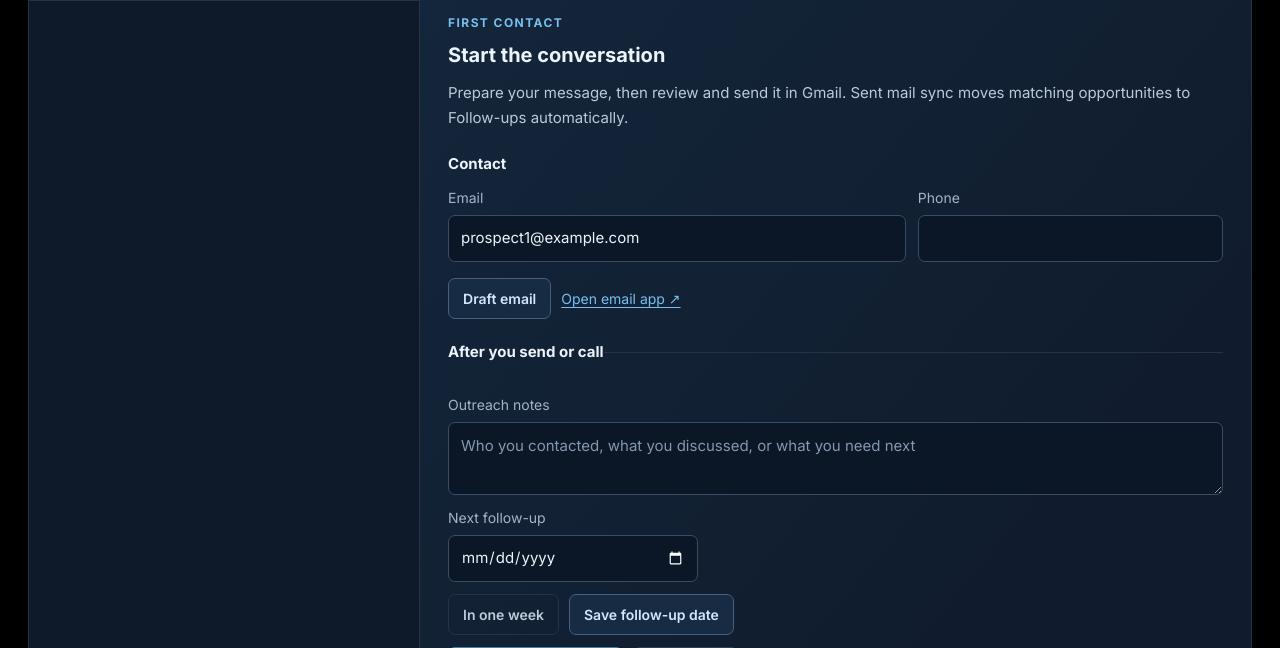
Test case: admin lead email drafting › explains non-JSON platform timeouts and restores the draft action
This screenshot has width=1280, height=648.
(page scrolled)
Click the button "Draft email". click: (500, 299)
box: [448,278,551,319]
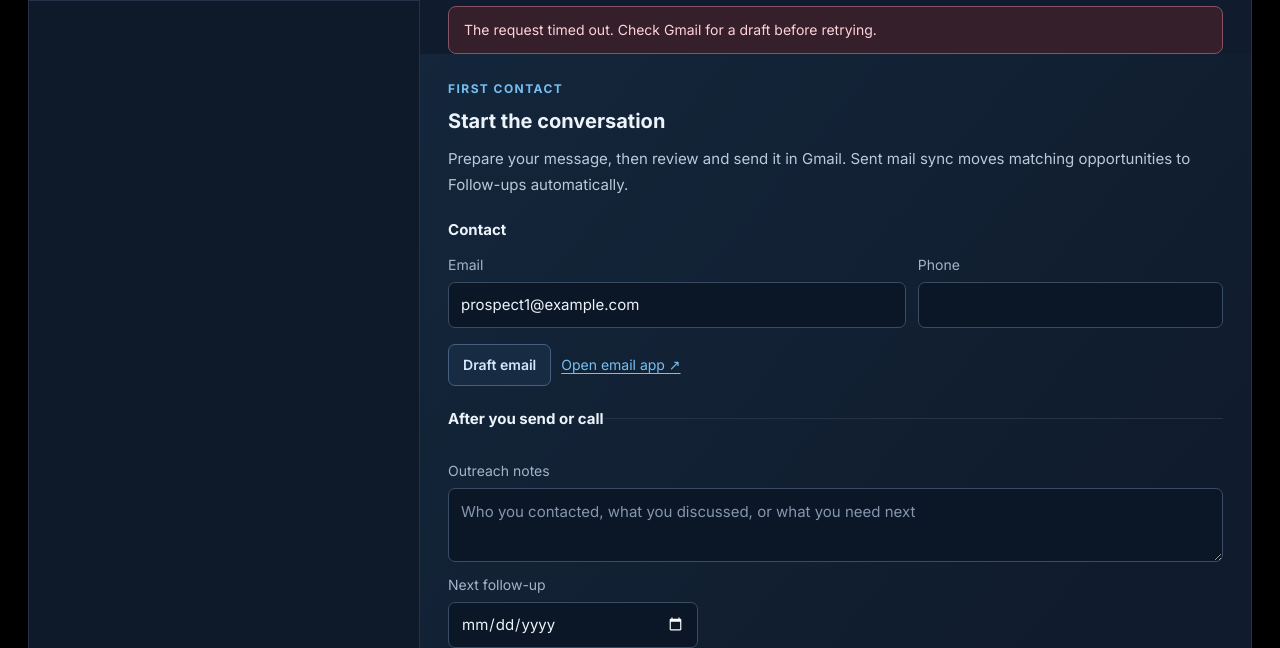
Expected: the button "Draft email" is enabled, [448,344,551,386]
Expected: the message reads "The request timed out. Check Gmail for a draft before retrying.", [464,21,877,38]
